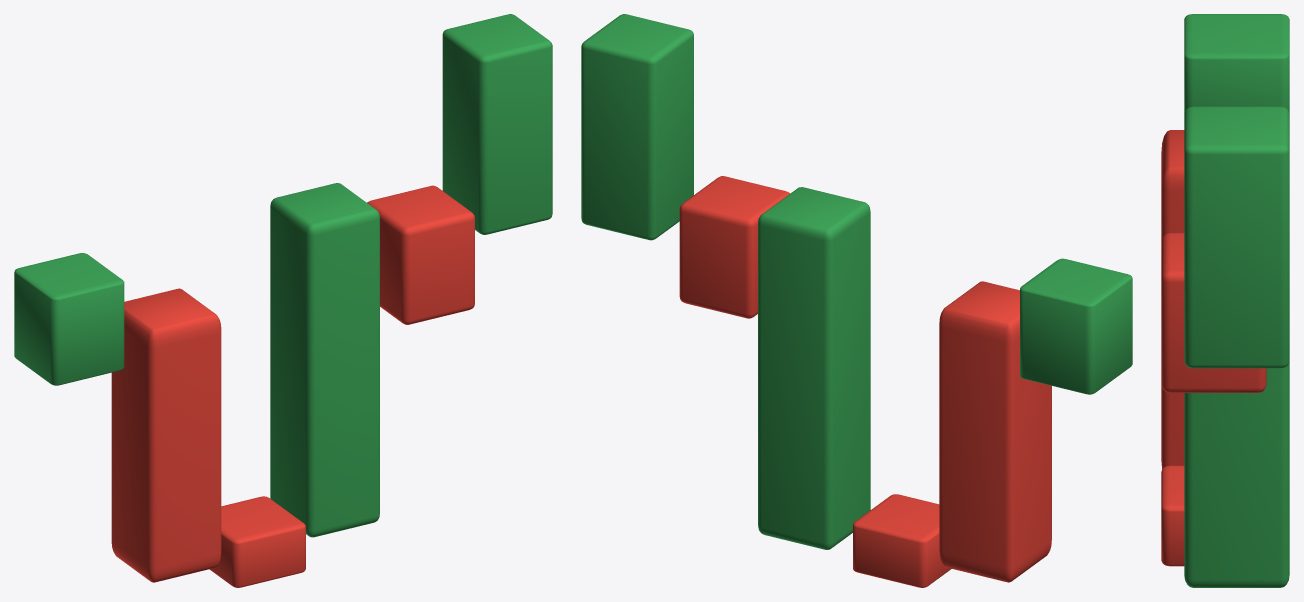
Rendered from candlesticks.glb.
3 renders of one model, left to right at view 1: azimuth 30°, elevation 25°; view 2: azimuth 150°, elevation 25°; view 3: azimuth 270°, elevation 25°, orthographic. The views are drawn at different scales.
Parts seen in each view (by area): view 1: Cube.002, Cube.007, Cube.004, Cube.003, Cube.008, Cube.005; view 2: Cube.002, Cube.007, Cube.004, Cube.003, Cube.008, Cube.005; view 3: Cube.004, Cube.002, Cube.003, Cube.008, Cube.007, Cube.005.
Part boxes in pixels (x1,y1,x2,y2): Cube.002: [270, 183, 379, 537]; Cube.007: [111, 288, 221, 582]; Cube.004: [442, 14, 552, 234]; Cube.003: [14, 253, 124, 385]; Cube.008: [367, 185, 474, 324]; Cube.005: [209, 496, 305, 587]; Cube.002: [758, 187, 870, 549]; Cube.007: [939, 281, 1051, 582]; Cube.004: [581, 14, 693, 240]; Cube.003: [1020, 258, 1132, 394]; Cube.008: [679, 176, 789, 318]; Cube.005: [853, 494, 951, 587]; Cube.004: [1184, 106, 1289, 368]; Cube.002: [1184, 361, 1289, 587]; Cube.003: [1184, 14, 1289, 113]; Cube.008: [1161, 233, 1266, 392]; Cube.007: [1161, 130, 1184, 469]; Cube.005: [1161, 465, 1184, 566].
Bounding box in the file's own units: 13.71 × 12.09 × 2.44.
